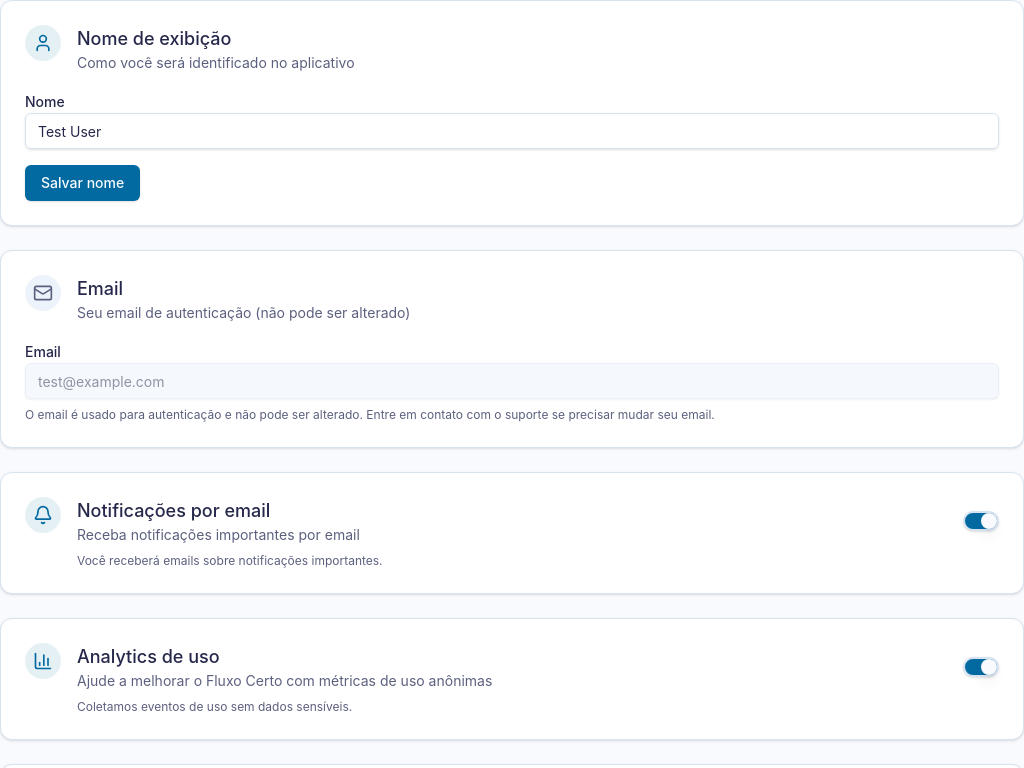
Test case: ProfileSettingsForm › validation › shows error for empty display name
The width and height of the screenshot is (1024, 768).
Clear the field labelled "Nome" at (512, 131), box [25,113,999,149]
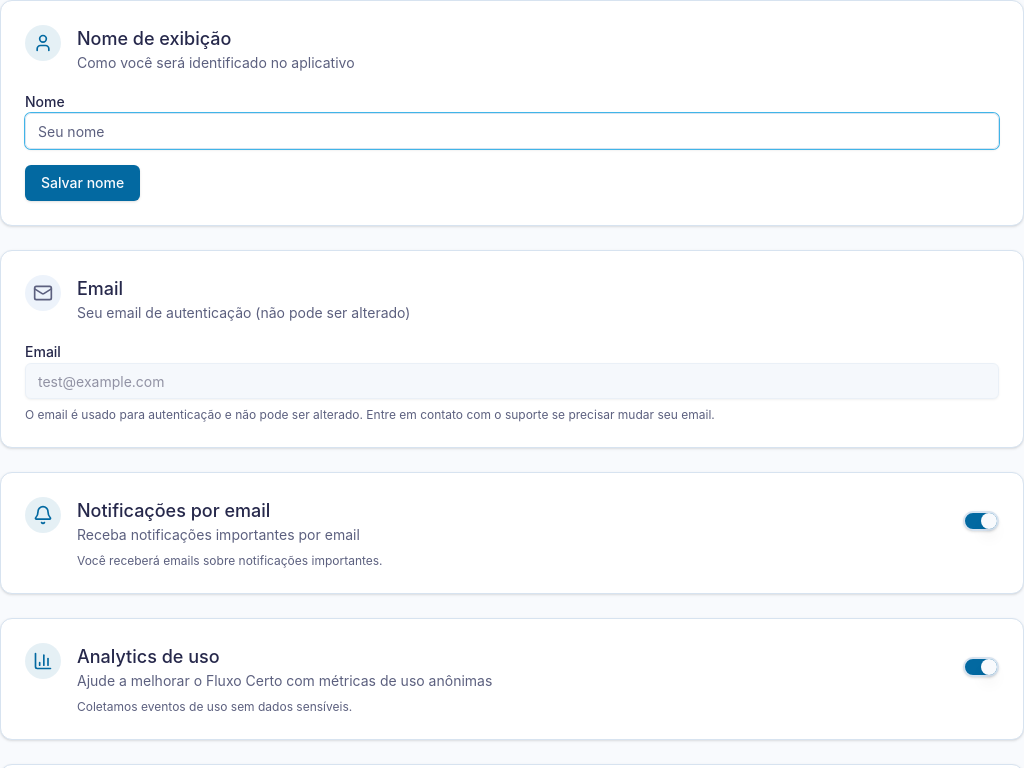
Click the button "Salvar nome" at (83, 183), box [25,165,140,201]
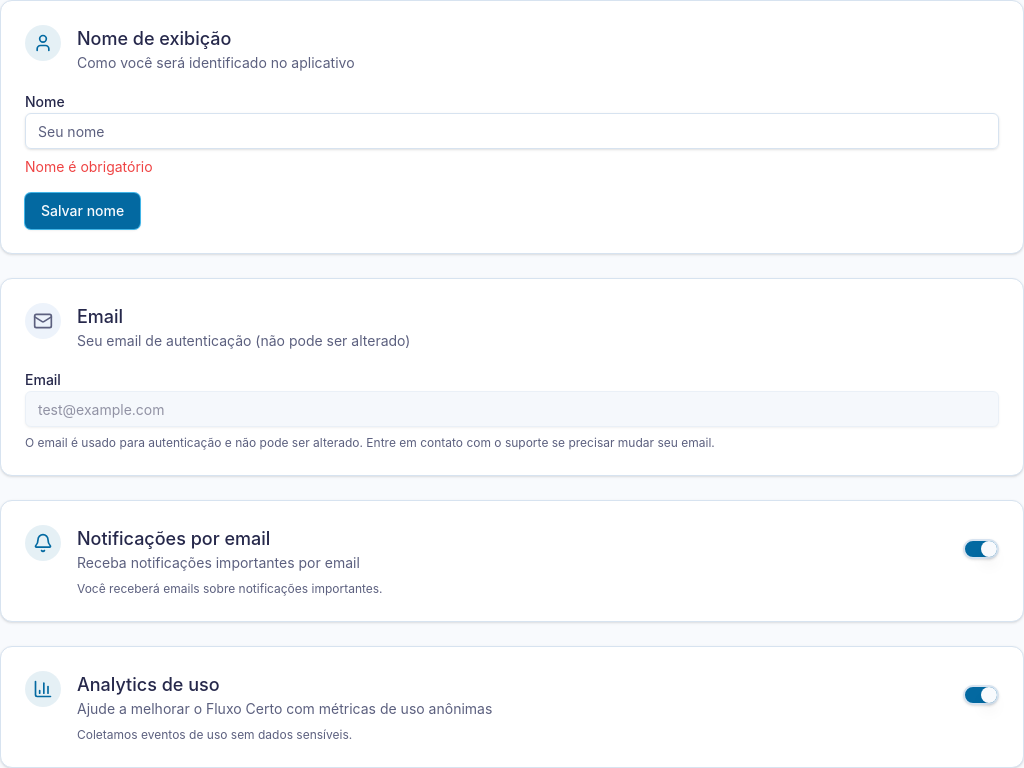
Expected: the text "Nome é obrigatório" is shown, [25,158,153,175]
